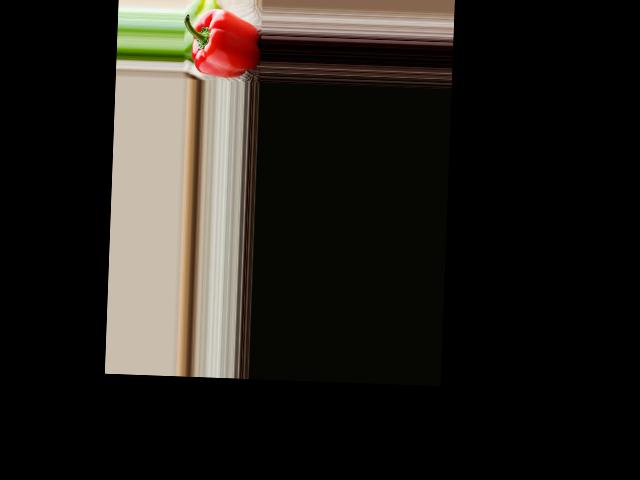bell_pepper: (184, 6, 263, 77)
